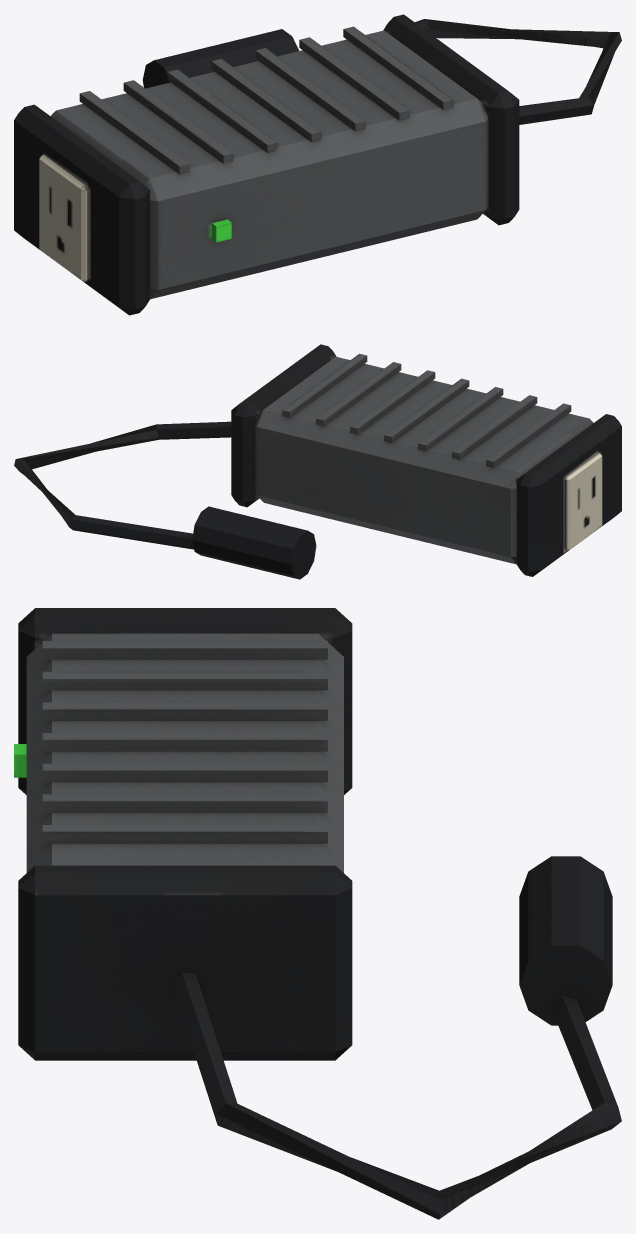
Rendered from RenewableEnergy_PlugInInverter.fbx.
The picture shows the model from 3 angles, top to bottom: view 1: azimuth 30°, elevation 25°; view 2: azimuth 150°, elevation 25°; view 3: azimuth 270°, elevation 25°; orthographic projection. The views are drawn at different scales.
Visible parts, largest first — view 1: PlugInInverter; view 2: PlugInInverter; view 3: PlugInInverter.
Part boxes in pixels (box(x1,y1,x2,y2)): PlugInInverter: box(14, 14, 621, 315); PlugInInverter: box(14, 344, 621, 579); PlugInInverter: box(14, 608, 621, 1219).
Bounding box in the file's own units: 0.2539 × 0.05 × 0.1437.
